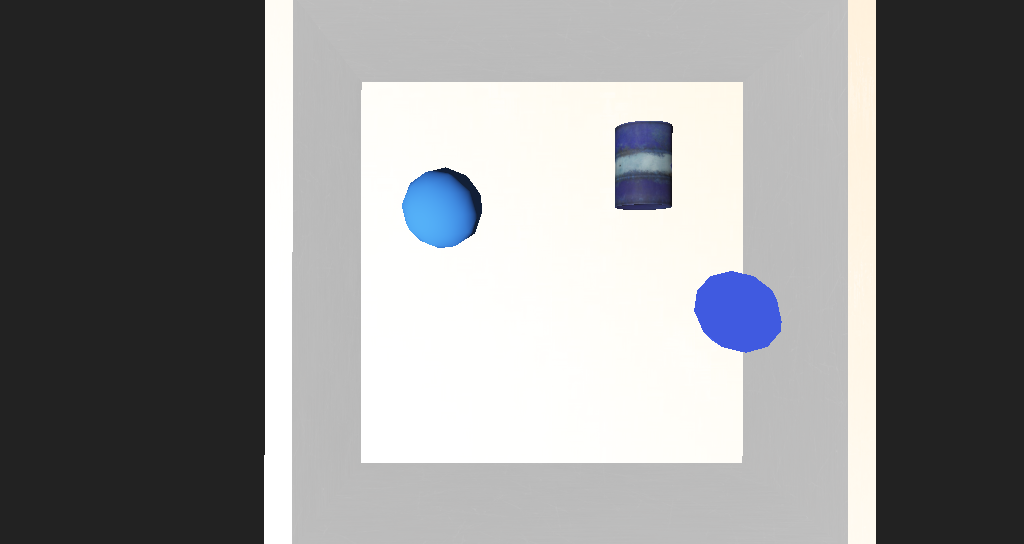cone: (556, 186, 603, 234)
cylinder: (600, 270, 680, 332)
sphere: (384, 212, 451, 255)
